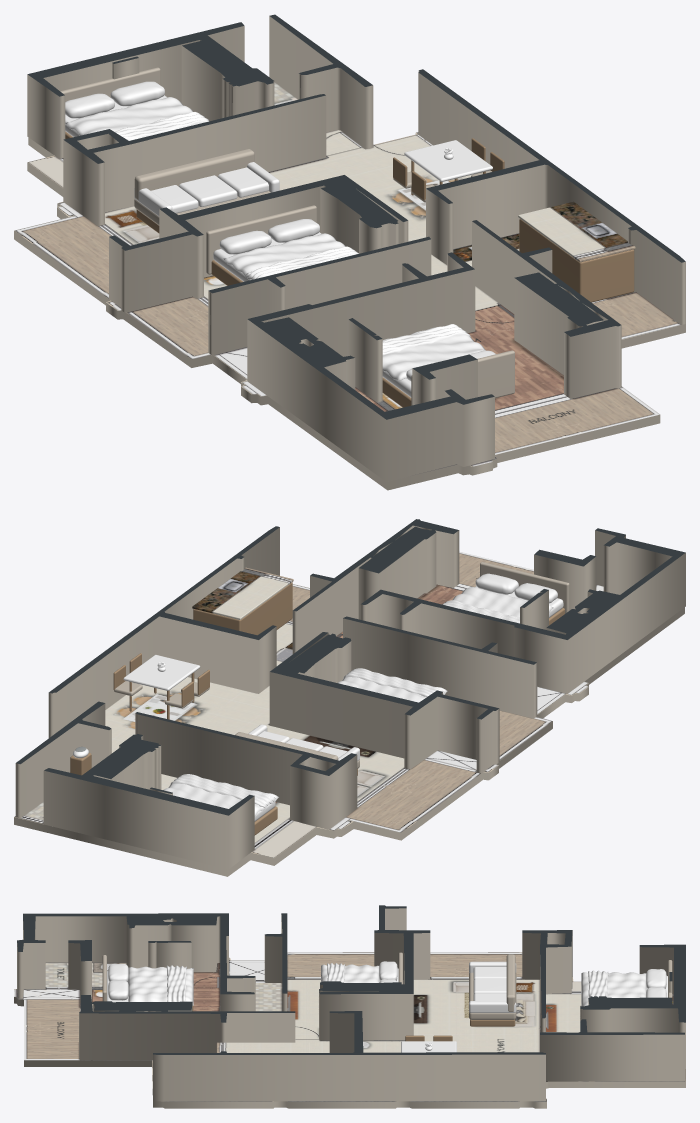
3 views of the same model, one above another, from view 1: azimuth 30°, elevation 25°; view 2: azimuth 150°, elevation 25°; view 3: azimuth 270°, elevation 25° (orthographic). The views are drawn at different scales.
Visible parts, largest first — view 1: Partition walls, Apartment floor, Kitchen cabinets, Stone worktop, Draped bed linen, Sofa back, Draped bed linen.004, Draped bed linen.002, Marble dining top, Upholstered headboard.001, Upholstered headboard.002, Upholstered headboard (+10 smaller); view 2: Partition walls, Apartment floor, Stone worktop, Kitchen cabinets, Marble dining top, Draped bed linen.004, Upholstered headboard.002, Draped bed linen, Draped bed linen.001, Draped bed linen.003, Draped bed linen.002, Tailored pillow.005; view 3: Partition walls, Apartment floor, Draped bed linen.004, Draped bed linen, Stone worktop, Draped bed linen.002, Draped bed linen.005, Marble dining top, Sofa back, Upholstered sofa frame, Draped bed linen.001, Padded armrest.001 (+7 smaller).
Part boxes in pixels (x1=…): Partition walls: x1=27, y1=14, x2=685, y2=481; Apartment floor: x1=14, y1=82, x2=685, y2=490; Kitchen cabinets: x1=519, y1=219, x2=634, y2=302; Stone worktop: x1=518, y1=201, x2=635, y2=262; Draped bed linen: x1=65, y1=97, x2=203, y2=137; Sofa back: x1=134, y1=149, x2=254, y2=199; Draped bed linen.004: x1=382, y1=327, x2=485, y2=380; Draped bed linen.002: x1=223, y1=233, x2=345, y2=279; Marble dining top: x1=404, y1=140, x2=492, y2=181; Upholstered headboard.001: x1=206, y1=205, x2=316, y2=274; Upholstered headboard.002: x1=411, y1=350, x2=514, y2=405; Upholstered headboard: x1=60, y1=67, x2=160, y2=101; Partition walls: x1=15, y1=519, x2=685, y2=869; Apartment floor: x1=14, y1=551, x2=684, y2=876; Stone worktop: x1=192, y1=567, x2=293, y2=619; Kitchen cabinets: x1=193, y1=582, x2=292, y2=635; Marble dining top: x1=123, y1=654, x2=200, y2=690; Draped bed linen.004: x1=452, y1=587, x2=553, y2=617; Upholstered headboard.002: x1=480, y1=562, x2=569, y2=613; Draped bed linen: x1=163, y1=775, x2=278, y2=816; Draped bed linen.001: x1=170, y1=774, x2=275, y2=807; Draped bed linen.003: x1=343, y1=668, x2=444, y2=696; Draped bed linen.002: x1=338, y1=670, x2=447, y2=702; Tailored pillow.005: x1=475, y1=573, x2=518, y2=594; Partition walls: x1=17, y1=905, x2=685, y2=1101; Apartment floor: x1=14, y1=952, x2=685, y2=1108; Draped bed linen.004: x1=128, y1=966, x2=193, y2=1005; Draped bed linen: x1=581, y1=972, x2=646, y2=1006; Stone worktop: x1=216, y1=1042, x2=309, y2=1052; Draped bed linen.002: x1=321, y1=964, x2=379, y2=982; Draped bed linen.005: x1=166, y1=965, x2=186, y2=1001; Marble dining top: x1=401, y1=1041, x2=456, y2=1052; Sofa back: x1=506, y1=954, x2=515, y2=1011; Upholstered sofa frame: x1=469, y1=972, x2=516, y2=1019; Draped bed linen.001: x1=588, y1=970, x2=608, y2=997; Padded armrest.001: x1=469, y1=1001, x2=516, y2=1012.
Size of the model in its own units: 7.96 by 1.3 by 14.94.
10 materials, 1 textured.
